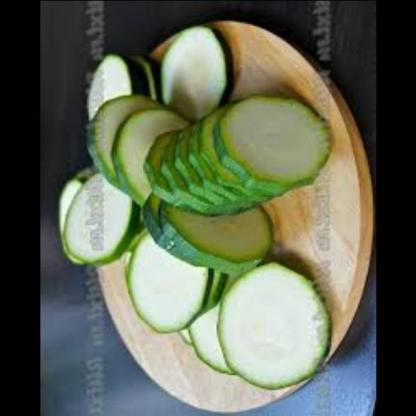vegetable marrow: (53, 28, 338, 392)
